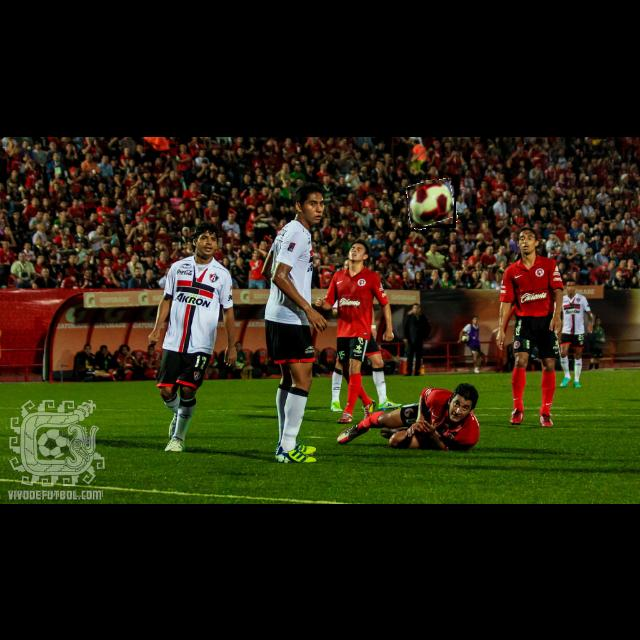Football: (408, 180, 456, 228)
